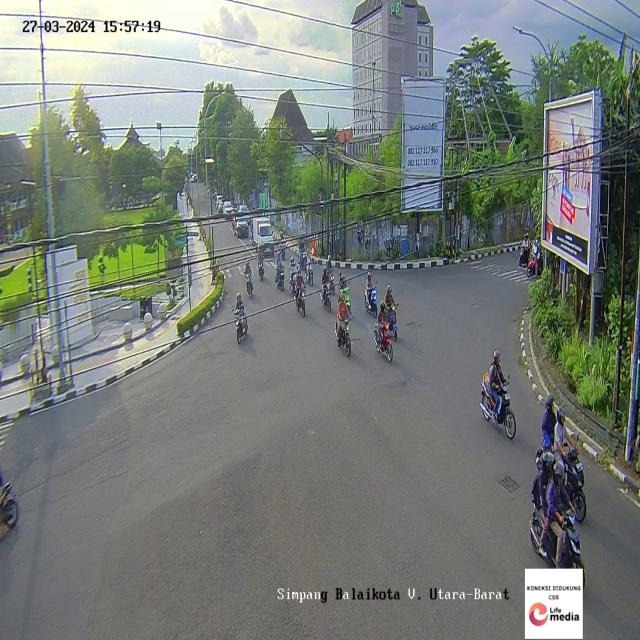car: (232, 213, 248, 238)
motorcycle: (530, 446, 584, 592), (540, 386, 589, 519), (478, 344, 516, 441), (372, 300, 393, 368), (334, 289, 354, 352), (383, 282, 399, 342), (233, 293, 248, 345), (363, 272, 378, 314), (294, 269, 307, 317), (338, 272, 352, 314), (243, 256, 254, 299), (321, 268, 332, 309), (275, 250, 284, 294), (256, 243, 265, 280), (296, 237, 306, 269), (289, 256, 297, 294), (306, 247, 314, 285), (278, 230, 287, 259)
truck: (251, 216, 274, 258)
